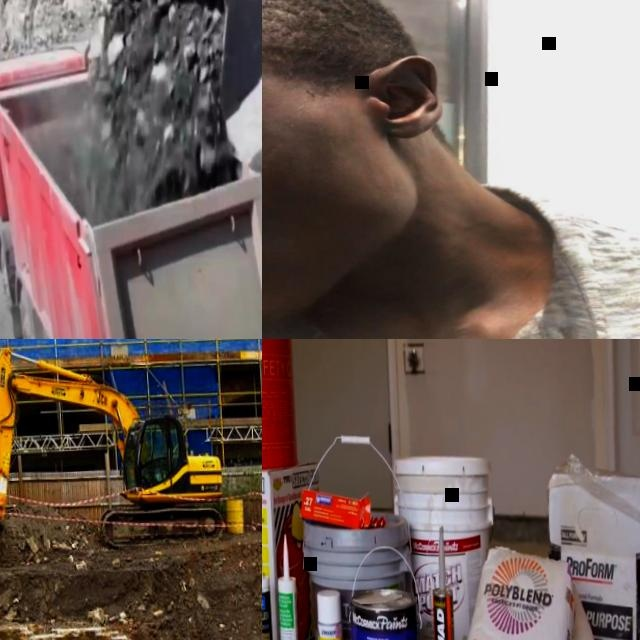NO-Hardhat: (262, 0, 414, 88)
NO-Mask: (262, 154, 424, 339)
NO-Safety Vest: (262, 223, 640, 339)
Person: (262, 0, 640, 339)
machinery: (0, 16, 262, 339), (73, 0, 262, 339), (0, 339, 227, 567)
